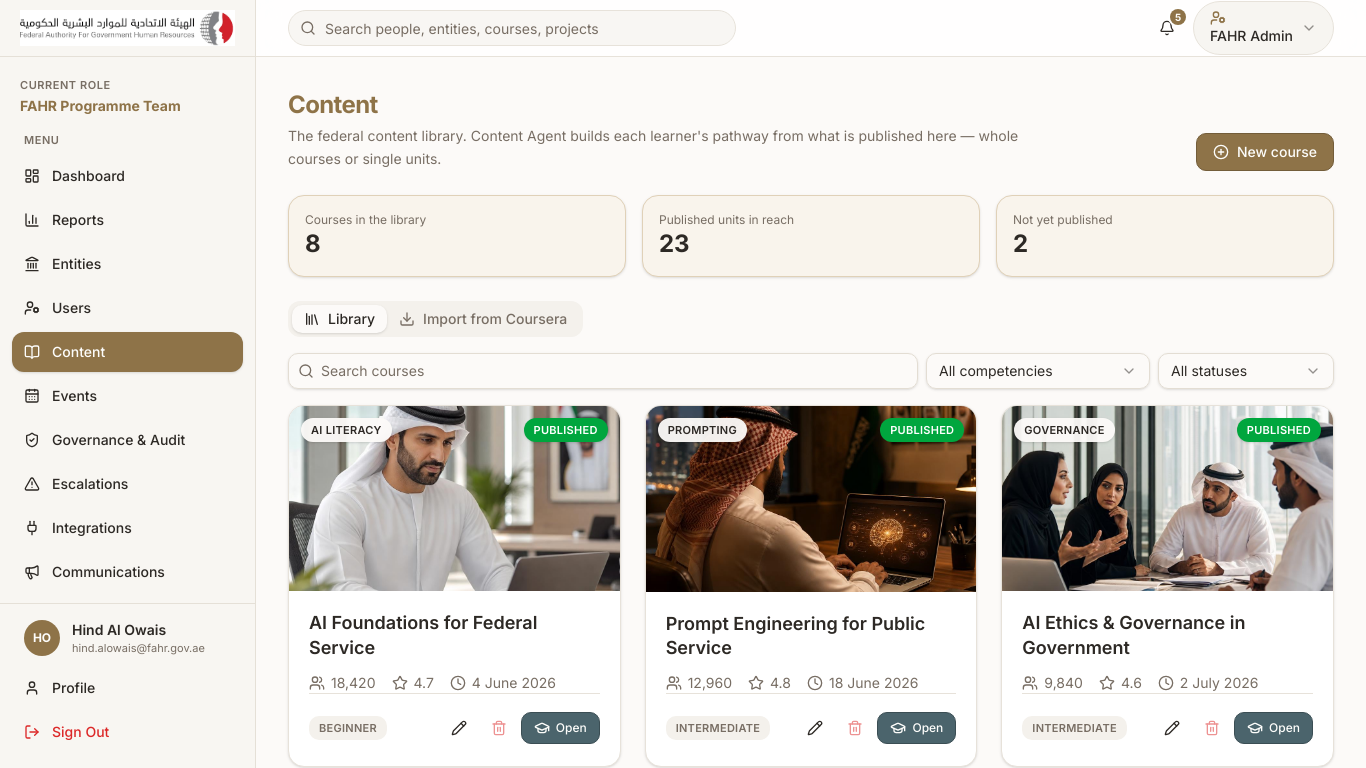
it: federal content library › starts a new course with a module, a unit and a block, not an empty page
Click the button with test id "button-new-course": (1265, 152) top-left (1196, 132), bottom-right (1334, 170)
(page scrolled)
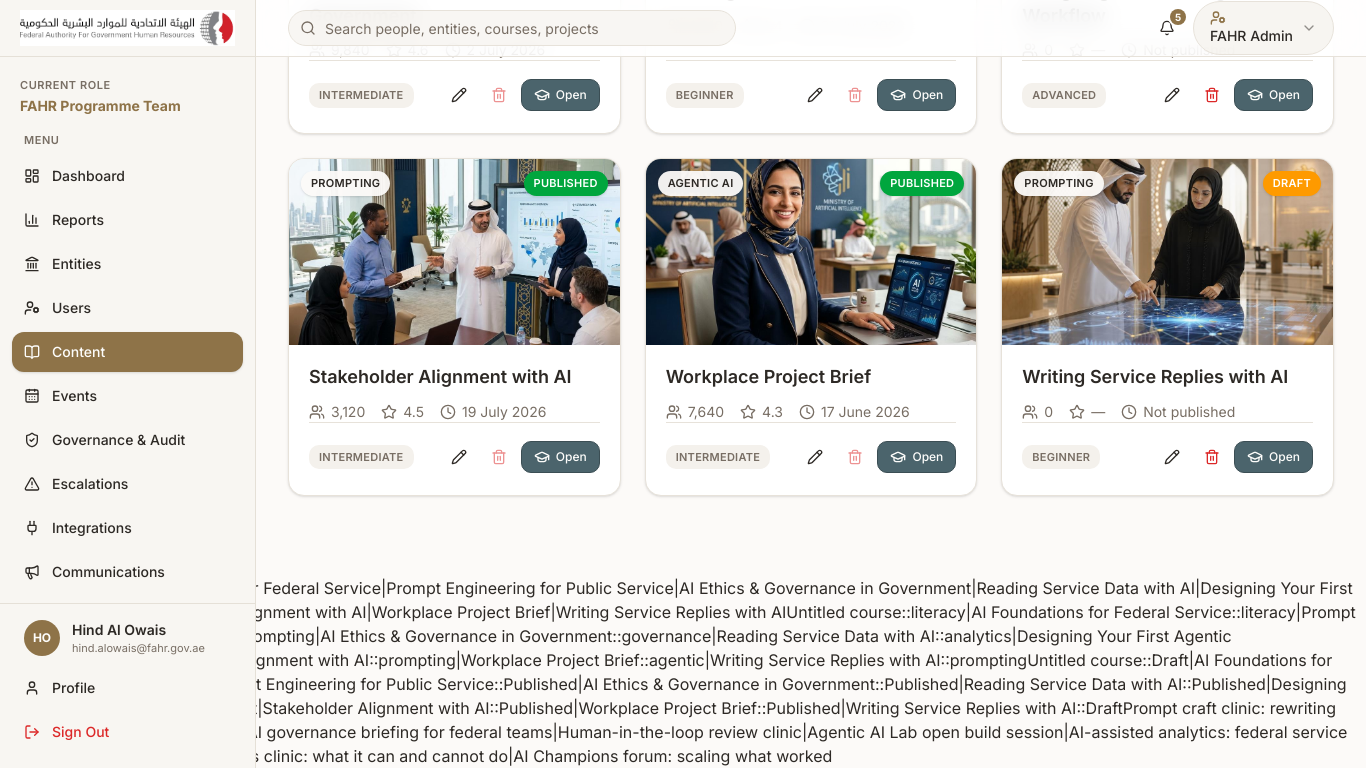
Check: the text with test id "probe-mapped" shows "Untitled course", box top-left (0, 602), bottom-right (1356, 670)
